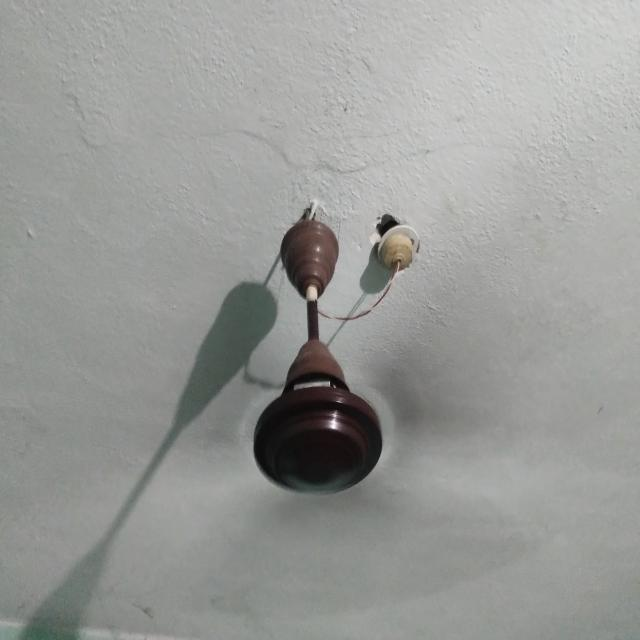fan_on: (8, 211, 582, 605)
